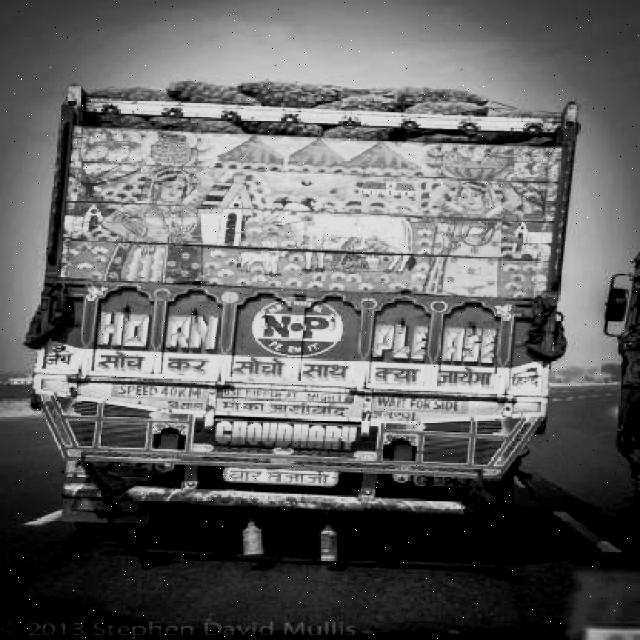HCV: (63, 60, 559, 557)
